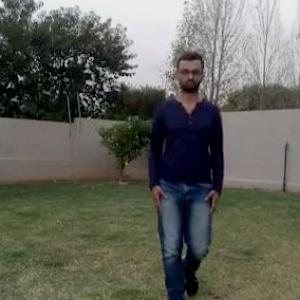follow: (148, 49, 223, 299)
